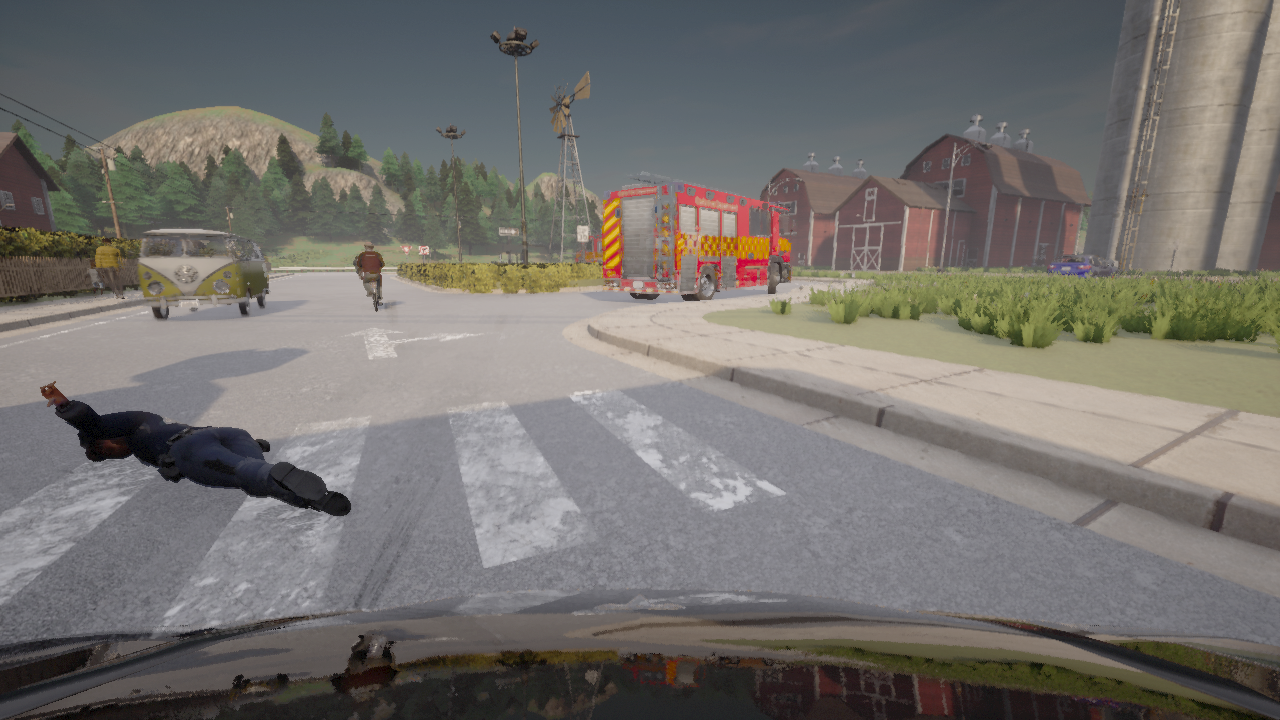cyclist: (0, 588, 1279, 719), (602, 170, 797, 301), (128, 227, 270, 320), (1045, 254, 1117, 282), (573, 228, 601, 262), (371, 279, 382, 309), (358, 269, 360, 278), (491, 261, 508, 262)
pedestrian: (39, 380, 352, 516), (96, 237, 126, 299), (84, 262, 107, 298)
